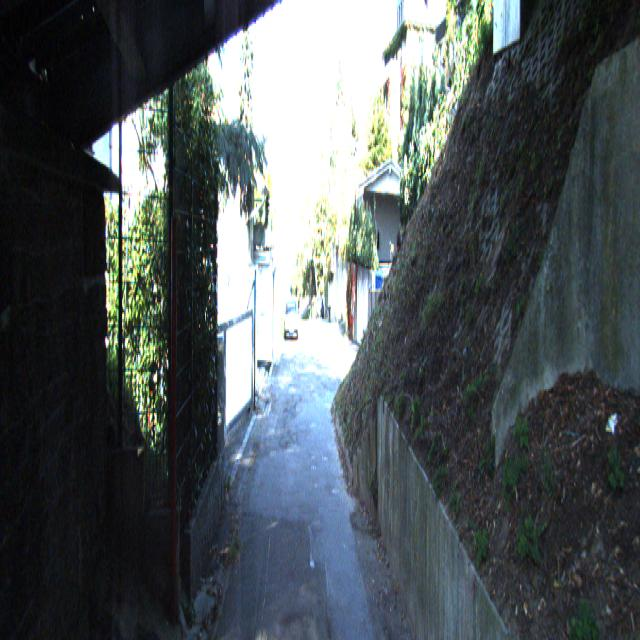Car: (284, 302, 299, 345)
